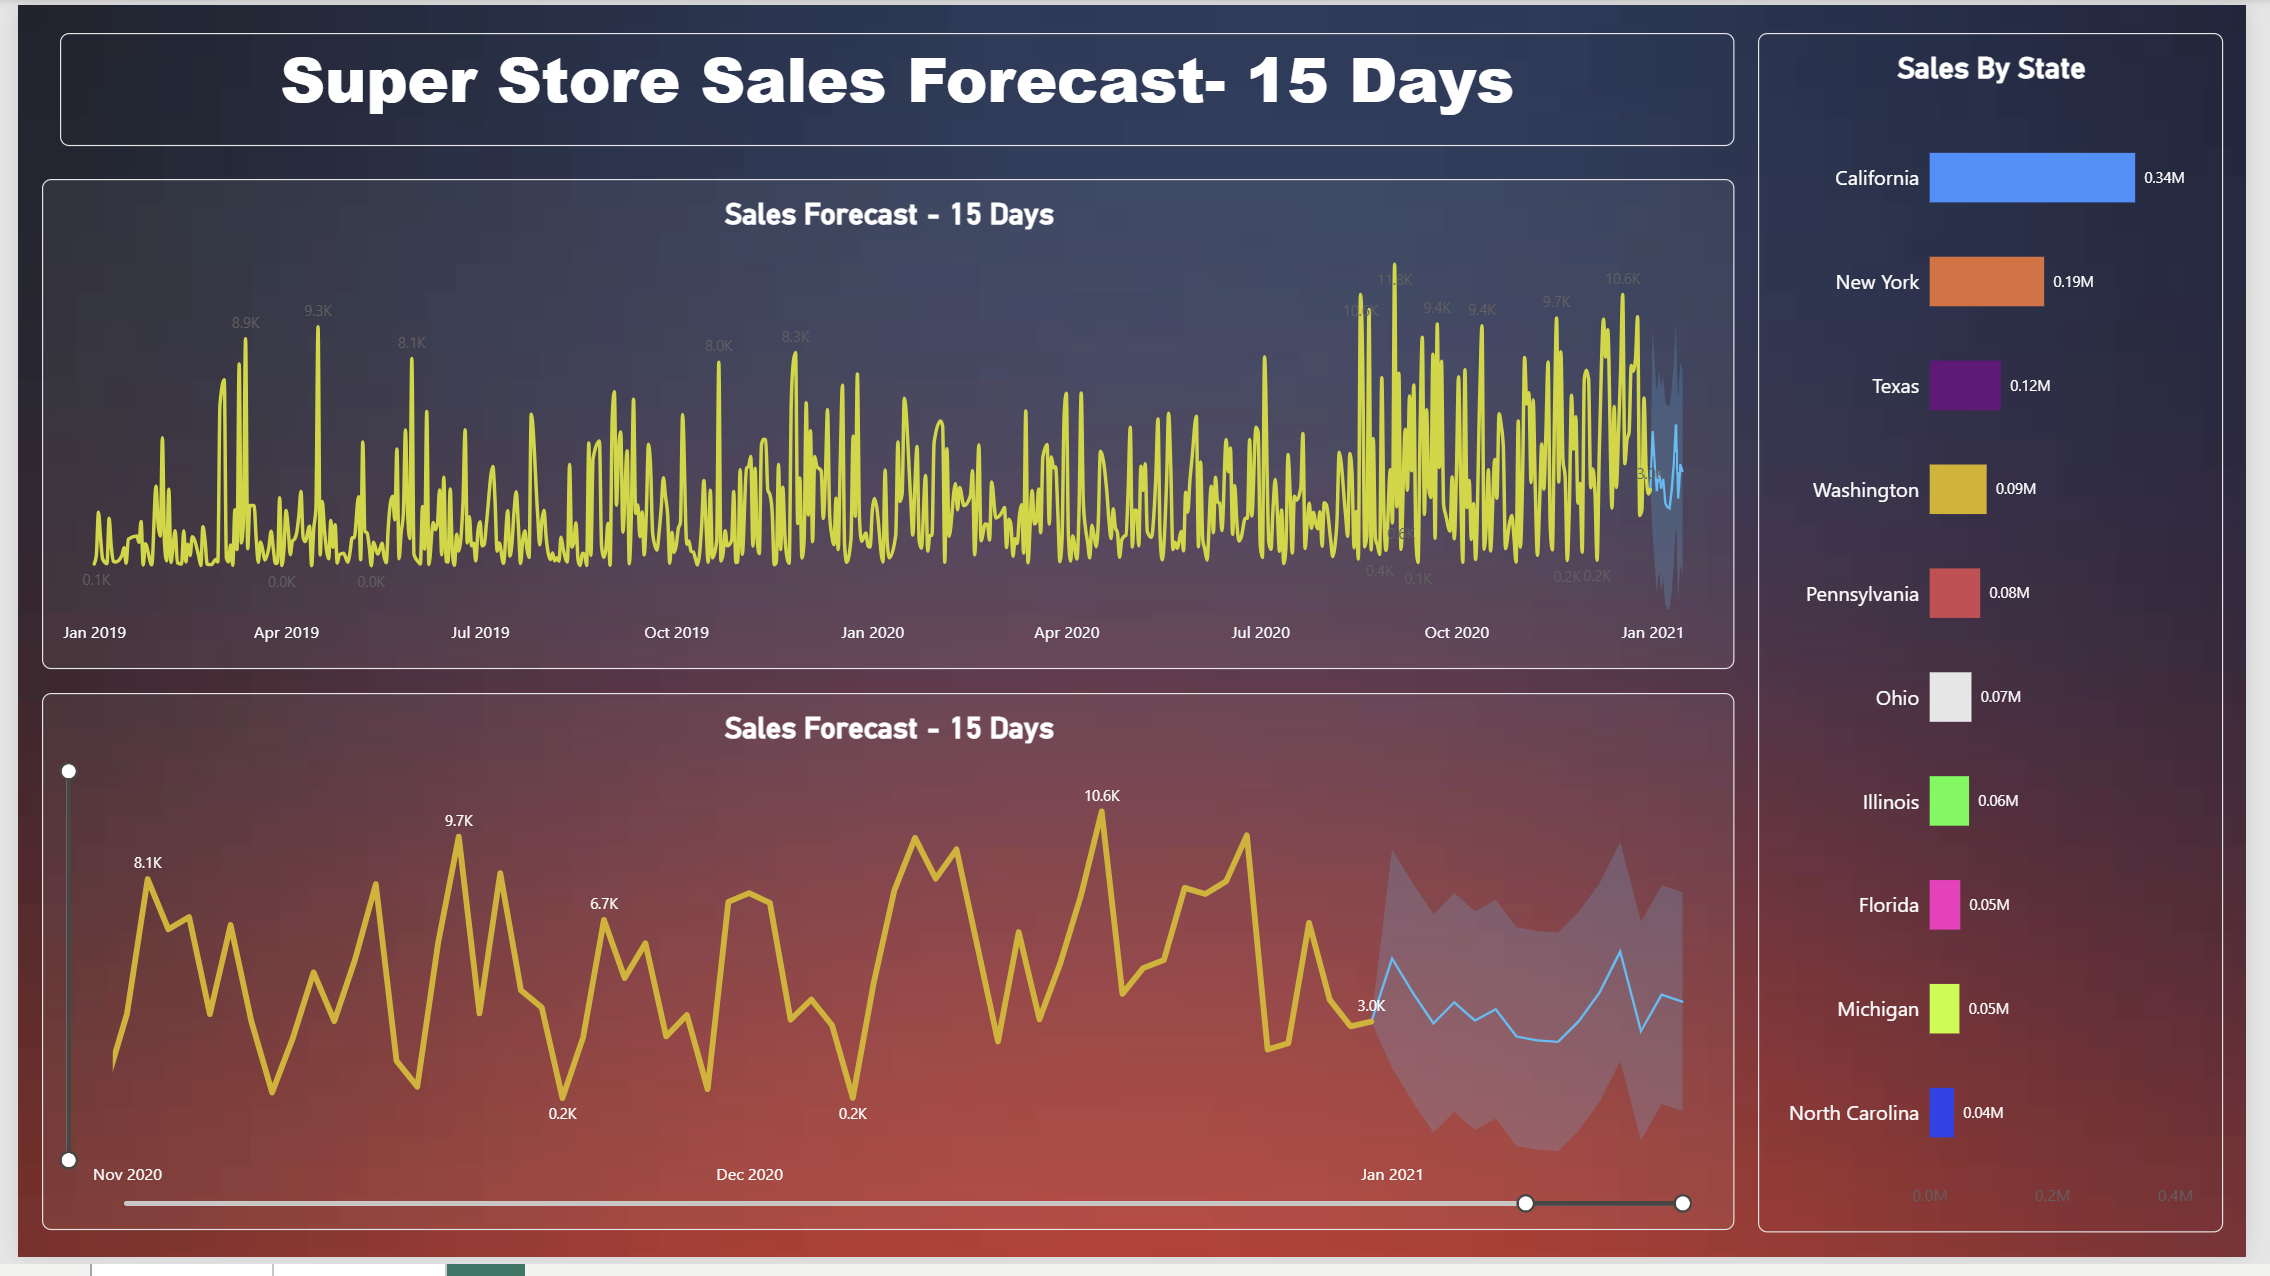

Layout of this report page (visuals, bound fields, positions):
{"tool":"powerbi","page":{"name":"Forecast","canvas":[1920,1080],"ordinal":1},"visuals":[{"type":"lineChart","title":"Sales Forecast - 15 Days","fields":{"Y":["Sum(SuperStore_Sales_Dataset.Sales)"],"Category":["SuperStore_Sales_Dataset.Order Date"]},"box":[21,149.2,1459.1,422.6],"z":0},{"type":"lineChart","title":"Sales Forecast - 15 Days","fields":{"Y":["Sum(SuperStore_Sales_Dataset.Sales)"],"Category":["SuperStore_Sales_Dataset.Order Date"]},"box":[21,592.8,1459.1,462.8],"z":1000},{"type":"barChart","title":"Sales By State","fields":{"Category":["SuperStore_Sales_Dataset.State"],"Y":["Sum(SuperStore_Sales_Dataset.Sales)"]},"box":[1499.7,23.9,400.9,1033.9],"z":2000},{"type":"textbox","box":[35.8,23.9,1443.4,97.3],"z":3000}]}

Visuals, with their boxes in screenshot pixels (x1, y1, x2, y2), scaled from the page's 1920x1080 canvas onto the 2270x1276 screenshot:
"Sales Forecast - 15 Days" lineChart: bbox(25, 176, 1750, 676)
"Sales Forecast - 15 Days" lineChart: bbox(25, 700, 1750, 1247)
"Sales By State" barChart: bbox(1773, 28, 2247, 1250)
textbox: bbox(42, 28, 1749, 143)
